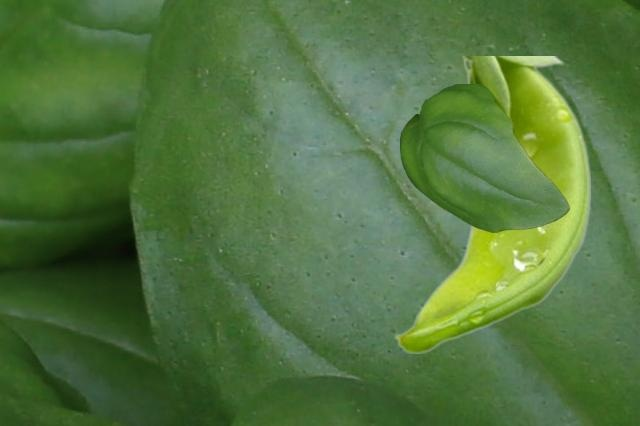pea: (393, 56, 589, 352)
